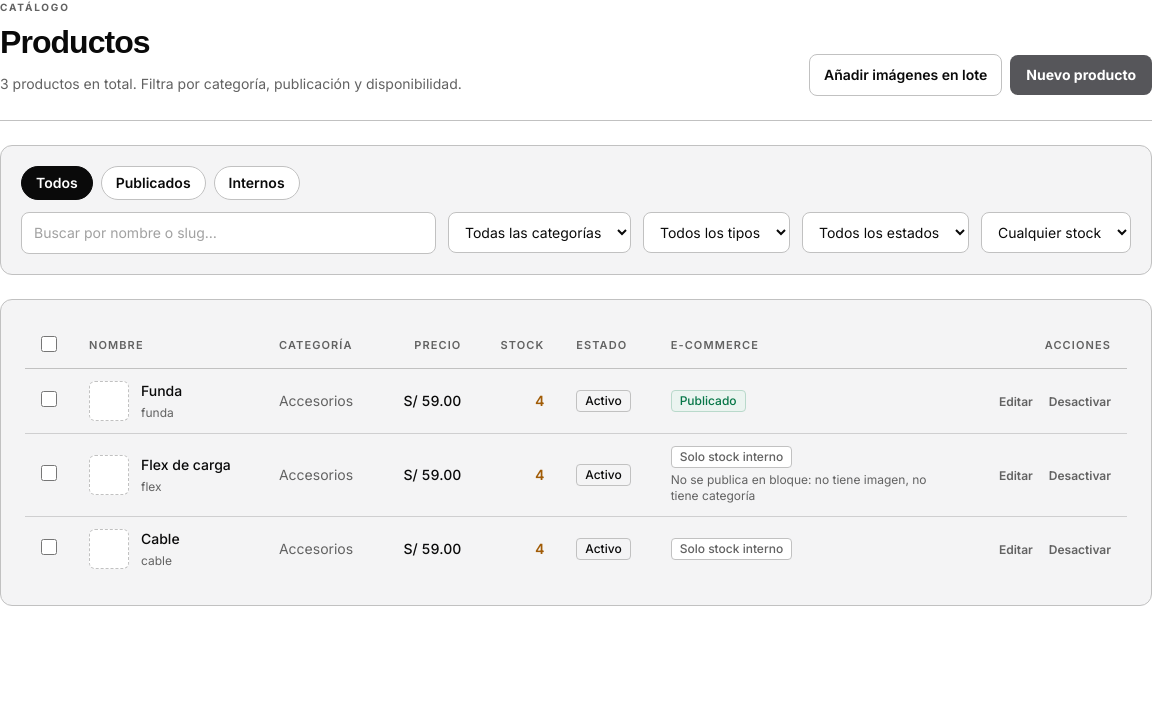
it: la confirmación › ocultar lo dice con sus palabras y en singular cuando es uno
Check: the link "Funda" is shown, box [141,382,182,399]
Click the checkbox named "Seleccionar Funda" at (49, 399), box [41,391,57,407]
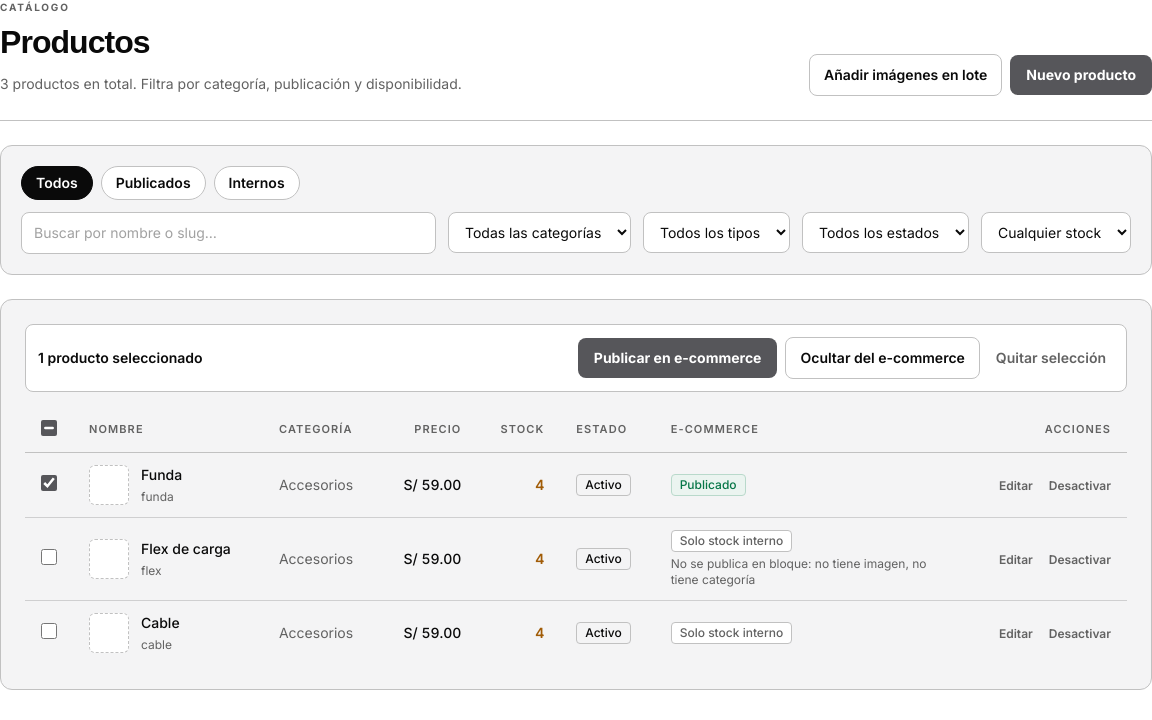
Click the button "Ocultar del e-commerce" at (883, 358), box [786,337,980,379]
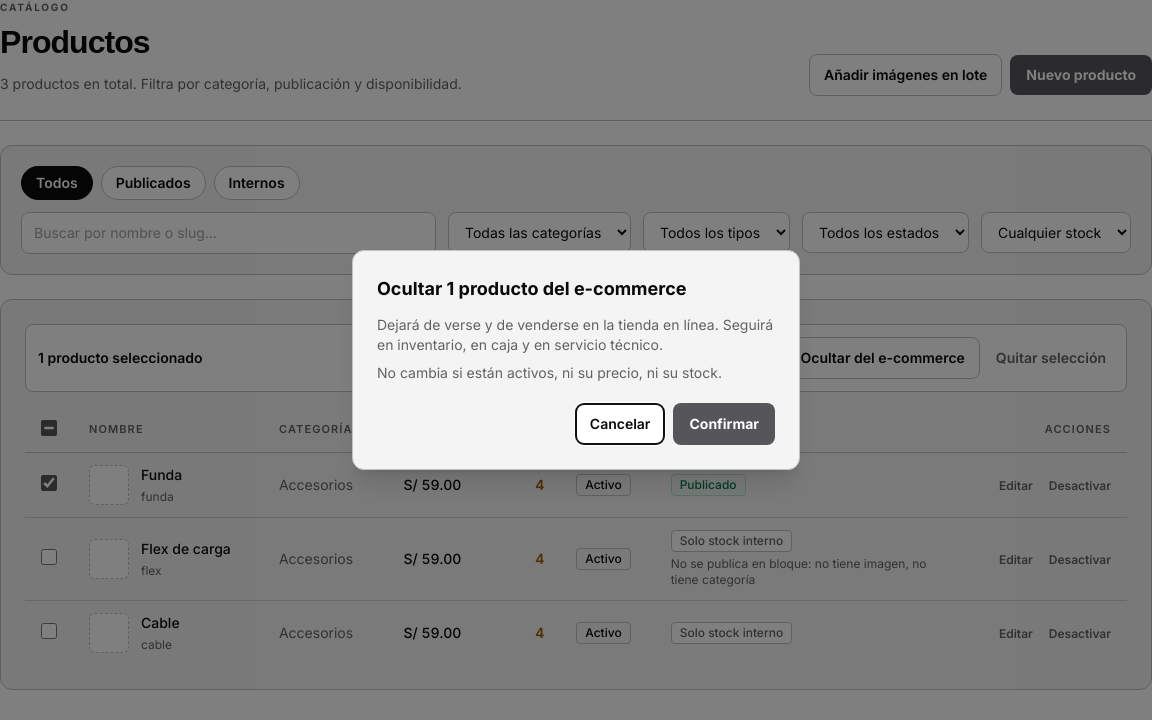
Check: the text "Seguirá en inventario" is shown, box [377,316,773,353]
